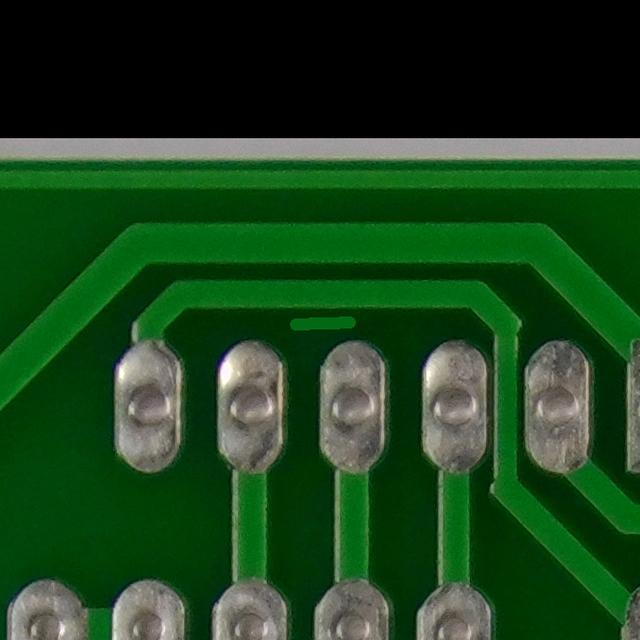spurious_copper: (268, 290, 372, 349)
